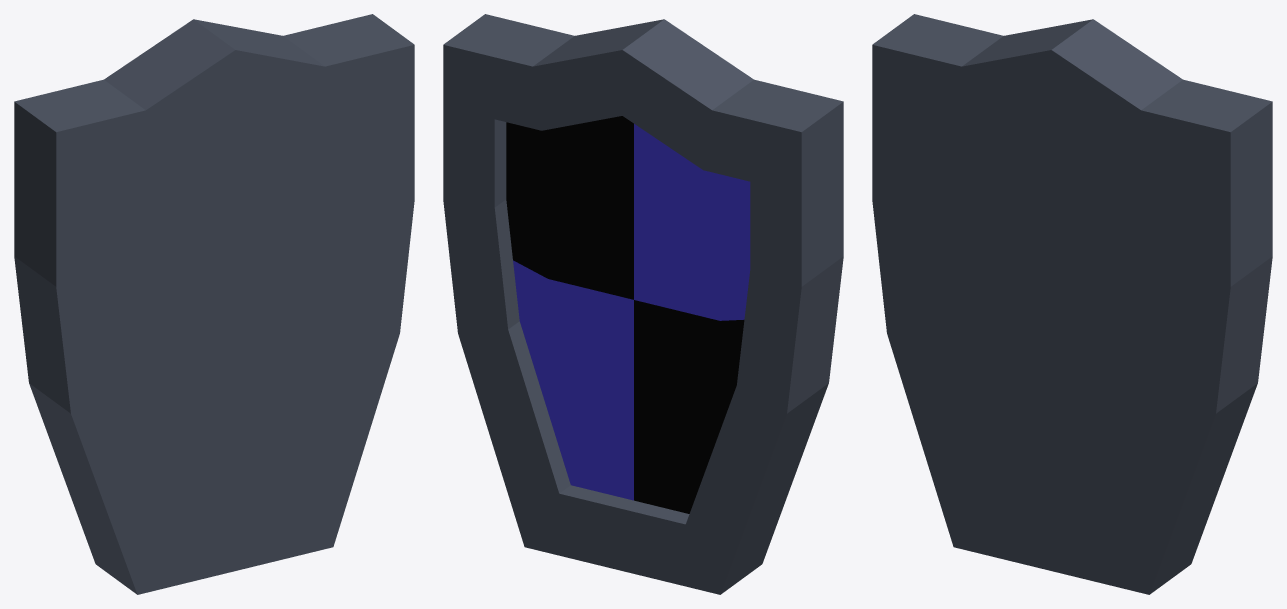
The model's file is shield.glb.
The picture shows the model from 3 angles, left to right: view 1: azimuth 30°, elevation 25°; view 2: azimuth 150°, elevation 25°; view 3: azimuth 330°, elevation 25°; orthographic projection.
Parts seen in each view (by area): view 1: Cube; view 2: Cube; view 3: Cube.
Part boxes in pixels (bbox=[...]): Cube: bbox=[14, 14, 414, 594]; Cube: bbox=[443, 14, 843, 594]; Cube: bbox=[872, 14, 1272, 594].
Size of the model in its own units: 1.9 by 2.63 by 0.3846.
